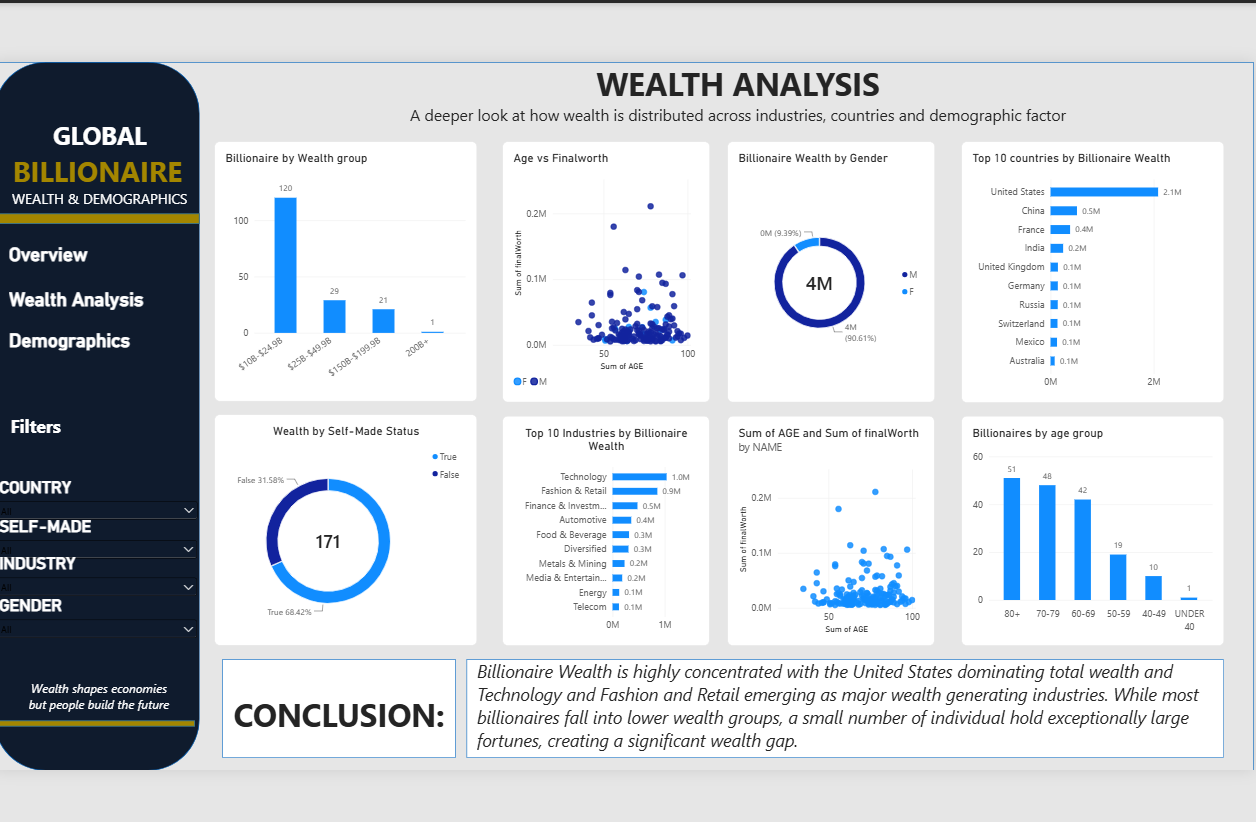

Layout of this report page (visuals, bound fields, positions):
{"tool":"powerbi","page":{"name":"WEALTH ANALYSIS","canvas":[1920,1080],"ordinal":1},"visuals":[{"type":"shape","box":[0,0,1920,1081.1],"z":0},{"type":"clusteredColumnChart","title":"Billionaires by age group","fields":{"Category":["Table1__2.AGE GROUP"],"Y":["CountNonNull(Table1__2.NAME)"]},"box":[1474.3,539.4,400,349.7],"z":1000},{"type":"clusteredBarChart","title":"Top 10 countries by Billionaire Wealth","fields":{"Category":["Table1__2.COUNTRY"],"Y":["Sum(Table1__2.finalWorth)"]},"box":[1474.3,121.1,400,397.7],"z":2000},{"type":"shape","box":[0,0,313.3,1080],"z":3000},{"type":"slicer","title":"COUNTRY","fields":{"Values":["Table1__2.COUNTRY"]},"box":[0,632.5,315,90],"z":4000},{"type":"slicer","title":"COUNTRY","fields":{"Values":["Table1__2.selfMade"]},"box":[0,692,314,90],"z":5000},{"type":"slicer","title":"COUNTRY","fields":{"Values":["Table1__2.industries"]},"box":[0,750,314,90],"z":6000},{"type":"slicer","title":"COUNTRY","fields":{"Values":["Table1__2.gender"]},"box":[0,814,314,90],"z":7000},{"type":"scatterChart","title":"Age vs Finalworth","fields":{"Category":["Table1__2.NAME"],"Series":["Table1__2.gender"],"X":["Sum(Table1__2.AGE)"],"Y":["Sum(Table1__2.finalWorth)"]},"box":[774.9,121.1,316,397],"z":8000},{"type":"clusteredColumnChart","title":"Billionaire by Wealth group","fields":{"Category":["Table1__2.WEALTH GROUP"],"Y":["CountNonNull(Table1__2.NAME)"]},"box":[336,121.1,400,396],"z":9000},{"type":"clusteredBarChart","title":"Top 10 Industries by Billionaire Wealth","fields":{"Category":["Table1__2.industries"],"Y":["Sum(Table1__2.finalWorth)"]},"box":[774.9,539.4,315.4,349.7],"z":10000},{"type":"donutChart","title":"Billionaire Wealth by Gender","fields":{"Category":["Table1__2.gender"],"Y":["Sum(Table1__2.finalWorth)"]},"box":[1117.7,121.1,316,397],"z":11000},{"type":"scatterChart","fields":{"Category":["Table1__2.NAME"],"X":["Sum(Table1__2.AGE)"],"Y":["Sum(Table1__2.finalWorth)"]},"box":[1117.7,539.4,315.4,349.7],"z":12000},{"type":"donutChart","title":"Wealth by Self-Made Status","fields":{"Category":["Table1__2.selfMade"],"Y":["CountNonNull(Table1__2.NAME)"]},"box":[336,537.1,400,352],"z":13000},{"type":"textbox","box":[347.4,0,1572.6,132.6],"z":14000},{"type":"textbox","box":[25.1,889.1,269.7,192],"z":15000},{"type":"textbox","box":[25.1,941.7,269.7,70.9],"z":16000},{"type":"shape","box":[6.9,1003.4,299.4,9.1],"z":17000},{"type":"textbox","box":[752,889,416,191],"z":18000},{"type":"textbox","box":[6.9,86.9,308.6,176],"z":19000},{"type":"shape","box":[0,230.9,313.1,16],"z":20000},{"type":"textbox","box":[347.4,889.1,357,191],"z":21000},{"type":"shape","box":[347.4,909.7,356.6,150.9],"z":22000},{"type":"shape","box":[720,909.7,1154.3,150.9],"z":23000},{"type":"textbox","box":[736,909.7,1138.3,150.9],"z":24000},{"type":"textbox","box":[347.4,925.7,356.6,116.6],"z":25000},{"type":"actionButton","title":"Overview","box":[22.9,276.6,269.7,43.4],"z":26000},{"type":"actionButton","title":"Wealth Analysis","box":[22.9,345.1,269.7,43.4],"z":27000},{"type":"actionButton","title":"Demographics","box":[22.9,406.9,269.7,43.4],"z":28000},{"type":"textbox","box":[25.1,537.1,267.4,70.9],"z":29000}]}

Visuals, with their boxes on the page's 1920x1080 design canvas (x1, y1, x2, y2). These are canvas units, not pixel positions in the 1256x822 screenshot, which may show the page scaled, cropped or inside an application window:
shape: <region>0, 0, 1920, 1081</region>
"Billionaires by age group" clusteredColumnChart: <region>1474, 539, 1874, 889</region>
"Top 10 countries by Billionaire Wealth" clusteredBarChart: <region>1474, 121, 1874, 519</region>
shape: <region>0, 0, 313, 1080</region>
"COUNTRY" slicer: <region>0, 632, 315, 722</region>
"COUNTRY" slicer: <region>0, 692, 314, 782</region>
"COUNTRY" slicer: <region>0, 750, 314, 840</region>
"COUNTRY" slicer: <region>0, 814, 314, 904</region>
"Age vs Finalworth" scatterChart: <region>775, 121, 1091, 518</region>
"Billionaire by Wealth group" clusteredColumnChart: <region>336, 121, 736, 517</region>
"Top 10 Industries by Billionaire Wealth" clusteredBarChart: <region>775, 539, 1090, 889</region>
"Billionaire Wealth by Gender" donutChart: <region>1118, 121, 1434, 518</region>
scatterChart - Table1__2.NAME x Sum(Table1__2.AGE): <region>1118, 539, 1433, 889</region>
"Wealth by Self-Made Status" donutChart: <region>336, 537, 736, 889</region>
textbox: <region>347, 0, 1920, 133</region>
textbox: <region>25, 889, 295, 1081</region>
textbox: <region>25, 942, 295, 1013</region>
shape: <region>7, 1003, 306, 1012</region>
textbox: <region>752, 889, 1168, 1080</region>
textbox: <region>7, 87, 316, 263</region>
shape: <region>0, 231, 313, 247</region>
textbox: <region>347, 889, 704, 1080</region>
shape: <region>347, 910, 704, 1061</region>
shape: <region>720, 910, 1874, 1061</region>
textbox: <region>736, 910, 1874, 1061</region>
textbox: <region>347, 926, 704, 1042</region>
"Overview" actionButton: <region>23, 277, 293, 320</region>
"Wealth Analysis" actionButton: <region>23, 345, 293, 388</region>
"Demographics" actionButton: <region>23, 407, 293, 450</region>
textbox: <region>25, 537, 292, 608</region>
